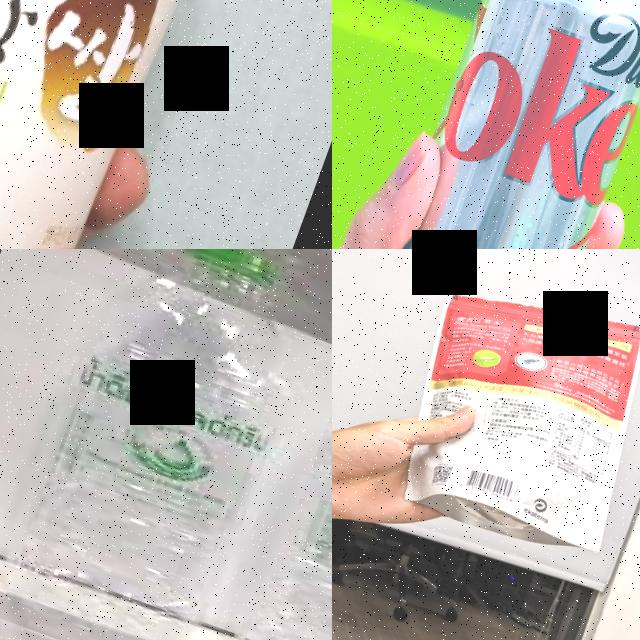bottle: (0, 249, 332, 640), (212, 291, 332, 640)
can: (353, 0, 640, 249), (0, 0, 256, 249)
